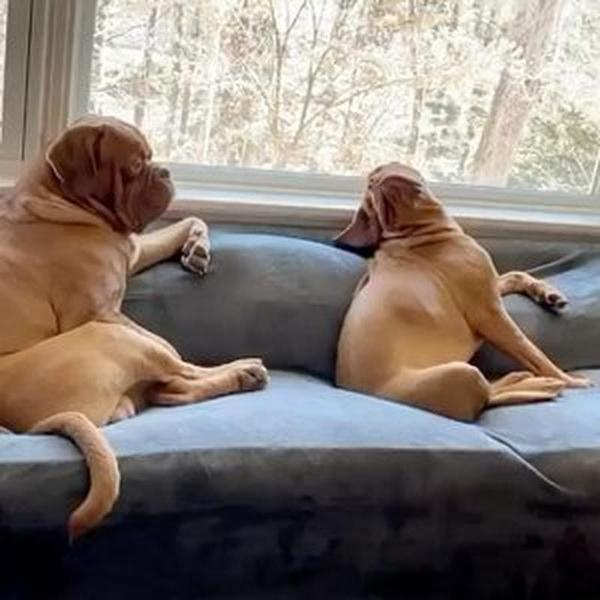allqu: (4, 104, 275, 552), (323, 148, 597, 443)
